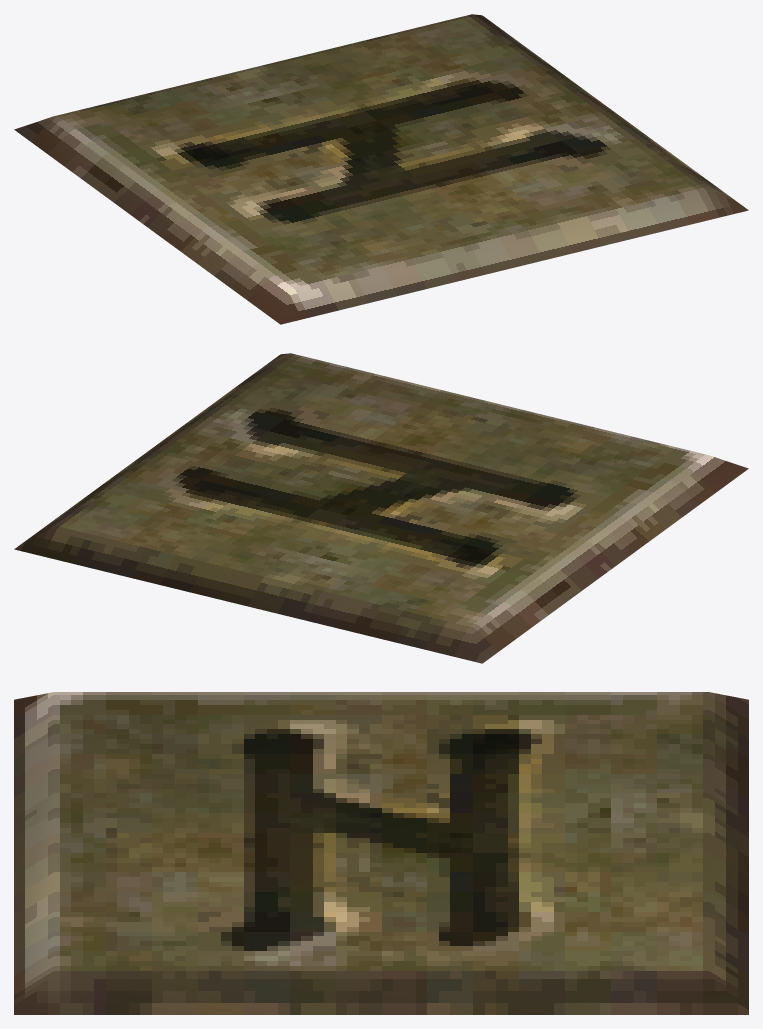
File: EREBOR_RUNE_PZL_EREBOR_PZL_TILE_STATIC14.fbx
3 views of the same model, one above another, from view 1: azimuth 30°, elevation 25°; view 2: azimuth 150°, elevation 25°; view 3: azimuth 270°, elevation 25° (orthographic). The views are drawn at different scales.
Parts seen in each view (by area): view 1: EREBOR_RUNE_PZL_EREBOR_PZL_TILE_STATIC14; view 2: EREBOR_RUNE_PZL_EREBOR_PZL_TILE_STATIC14; view 3: EREBOR_RUNE_PZL_EREBOR_PZL_TILE_STATIC14.
Part boxes in pixels (left/top/right/bottom): EREBOR_RUNE_PZL_EREBOR_PZL_TILE_STATIC14: left=14, top=14, right=748, bottom=324; EREBOR_RUNE_PZL_EREBOR_PZL_TILE_STATIC14: left=14, top=353, right=748, bottom=663; EREBOR_RUNE_PZL_EREBOR_PZL_TILE_STATIC14: left=14, top=692, right=748, bottom=1014.
Bounding box in the file's own units: 10240 × 370 × 10093.
Materials: 1 (1 with a texture image).
